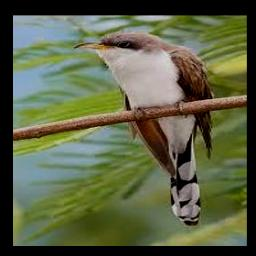Cuckoo: (74, 32, 214, 226)
